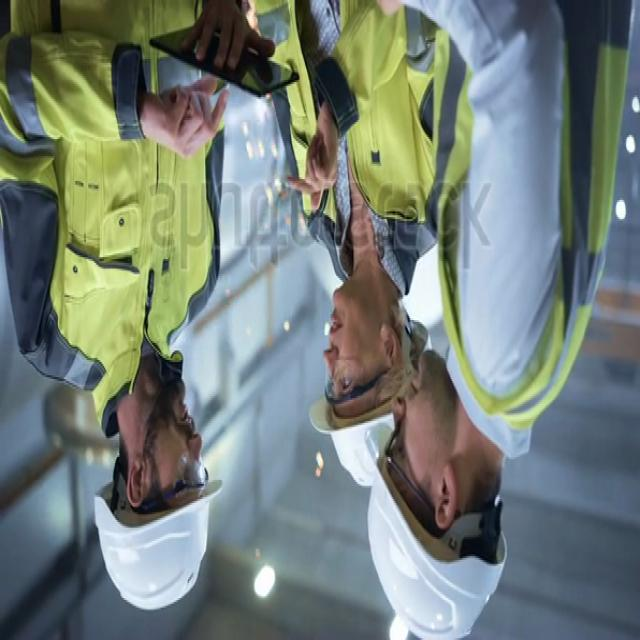goggles: (128, 452, 210, 514), (386, 427, 438, 518), (316, 351, 389, 409)
